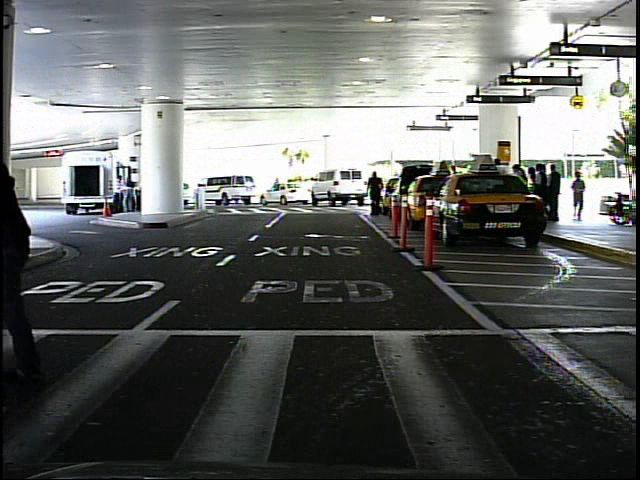person: (366, 167, 390, 222), (571, 172, 590, 223), (108, 174, 125, 215)
